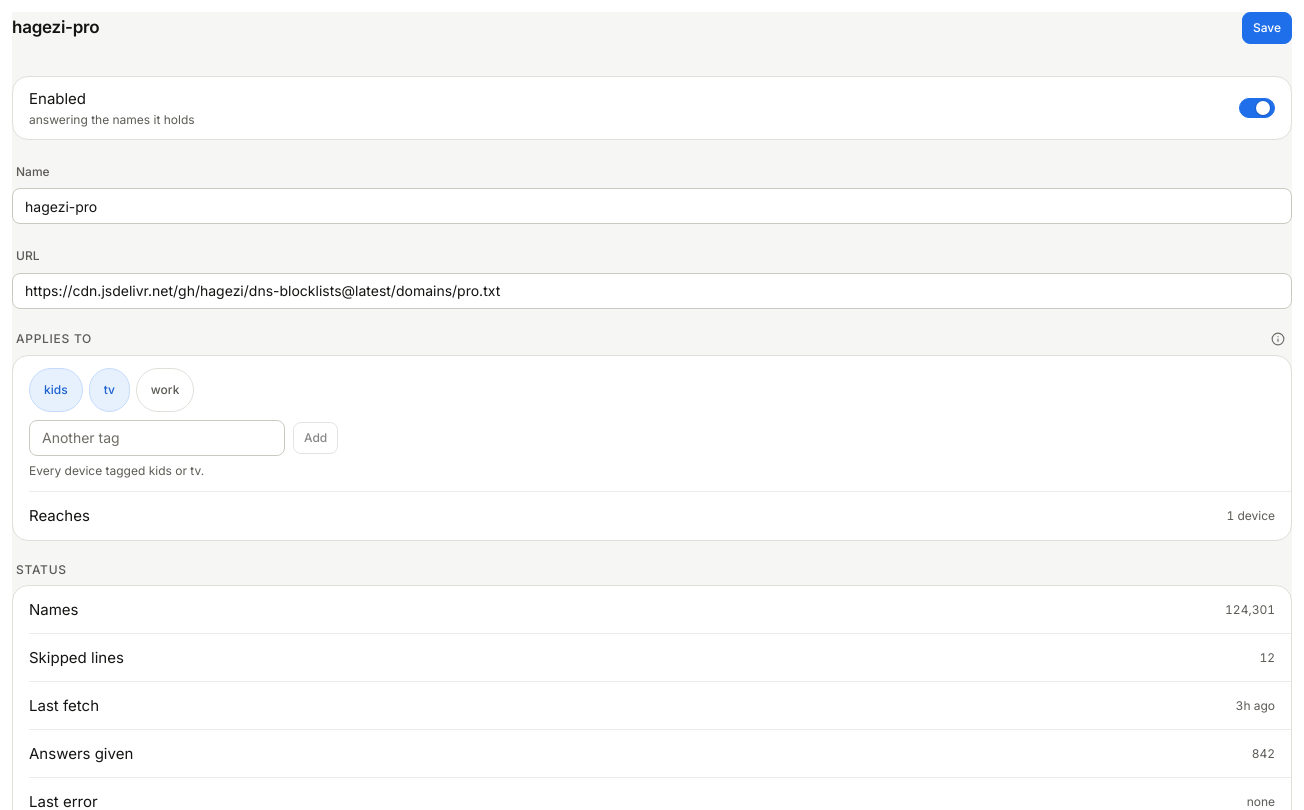
Test: Hydra blocklists on a phone › puts the switch back when the write is refused
Click the switch named "Enabled" at (1257, 108), box [1239,98,1275,118]
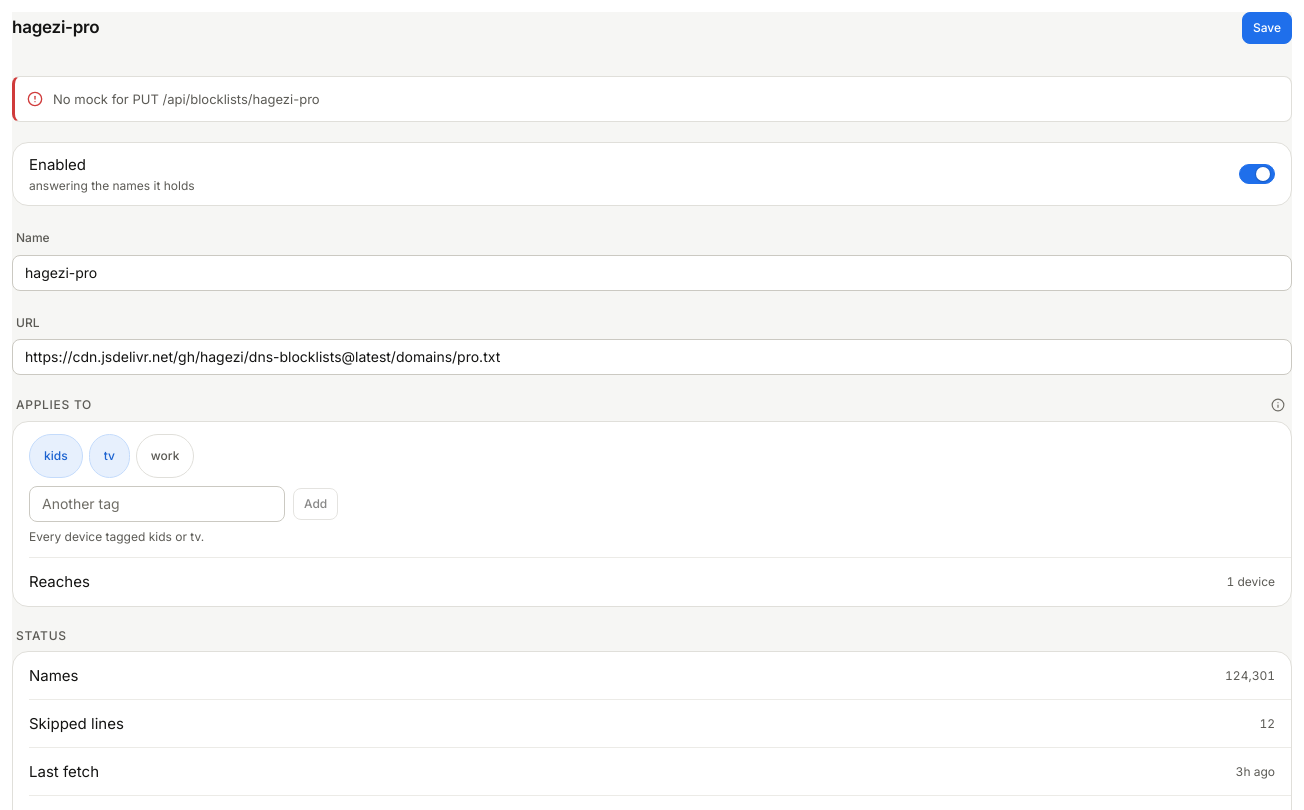
Now the text "No mock for PUT /api/blocklists/hagezi-pro" is shown, box [53,89,320,109]
